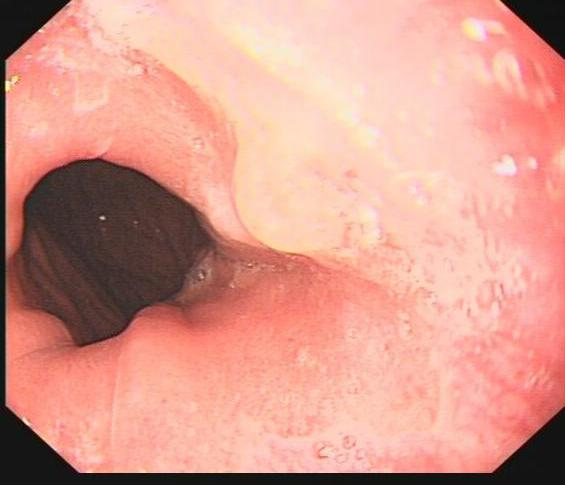Polyp: (229, 134, 391, 257)
